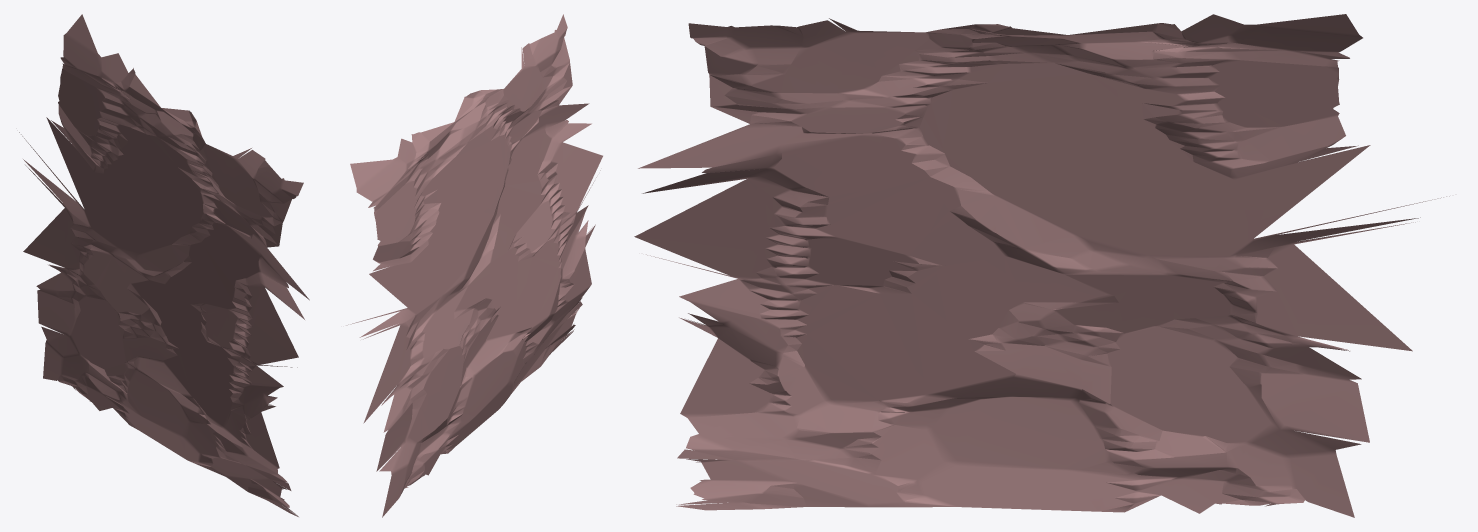
File: plateau.fbx_Rock_Plateau_029LODs.fbx
3 views of the same model, side by side, from view 1: azimuth 30°, elevation 25°; view 2: azimuth 150°, elevation 25°; view 3: azimuth 270°, elevation 25° (orthographic). The views are drawn at different scales.
Visible parts, largest first — view 1: Rock Plateau.029_LOD0; view 2: Rock Plateau.029_LOD0; view 3: Rock Plateau.029_LOD0.
Boxes of the visible parts, bbox=[...] form: Rock Plateau.029_LOD0: bbox=[19, 14, 309, 516]; Rock Plateau.029_LOD0: bbox=[346, 14, 602, 517]; Rock Plateau.029_LOD0: bbox=[634, 14, 1449, 517].
Size of what is drawn, in the model's own units: 323 by 2699 by 3836.
